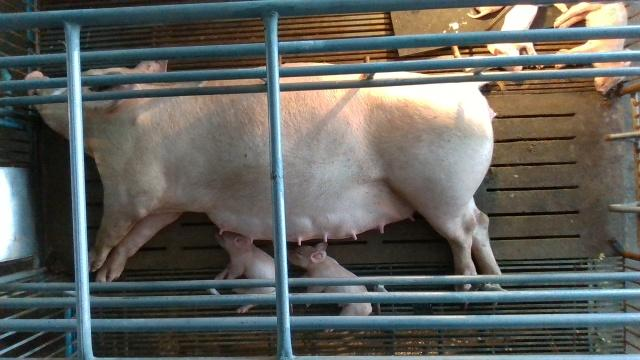piglet: (555, 1, 632, 95), (288, 241, 371, 315), (214, 234, 276, 313), (486, 4, 547, 71)
sow-sleep-lactate: (26, 59, 504, 308)
